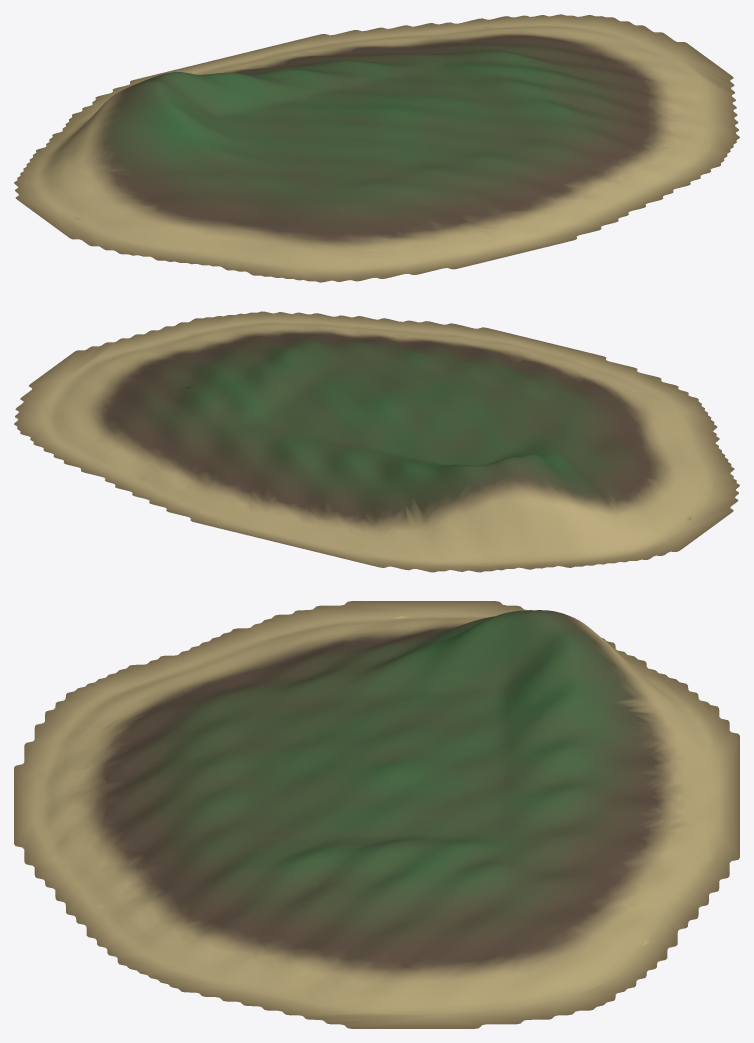
Rendered from island_base_lod1.glb.
The picture shows the model from 3 angles, top to bottom: view 1: azimuth 30°, elevation 25°; view 2: azimuth 150°, elevation 25°; view 3: azimuth 270°, elevation 25°; orthographic projection. The views are drawn at different scales.
Visible parts, largest first — view 1: GEO_island_lod1; view 2: GEO_island_lod1; view 3: GEO_island_lod1.
Boxes of the visible parts, x1=… form: GEO_island_lod1: x1=14, y1=14, x2=739, y2=282; GEO_island_lod1: x1=14, y1=311, x2=739, y2=572; GEO_island_lod1: x1=14, y1=601, x2=739, y2=1028.
Bounding box in the file's own units: 35.25 × 3.36 × 25.28.
